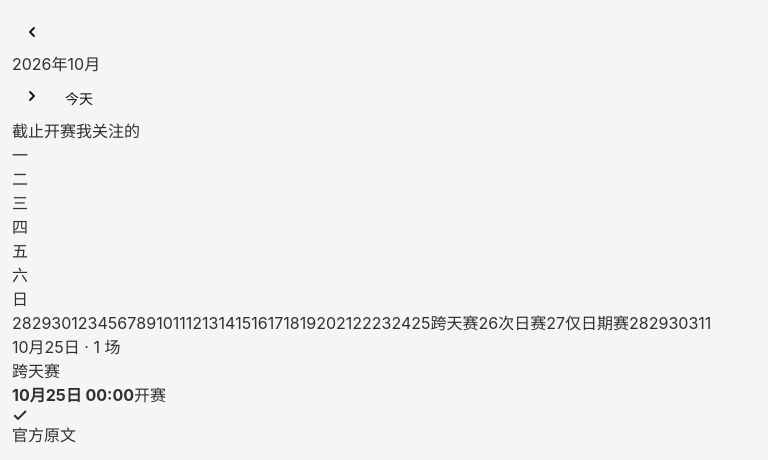
按北京时间显示整月节点，点选日期只展示当天比赛
Expected: the button with aria-label "10月25日，1 场" is shown, [411,310,479,334]
Expected: the link "跨天赛" is shown, [12,360,60,380]
Step 1. Click the button with aria-label "10月26日，1 场" → x=512, y=322, box [478,310,546,334]
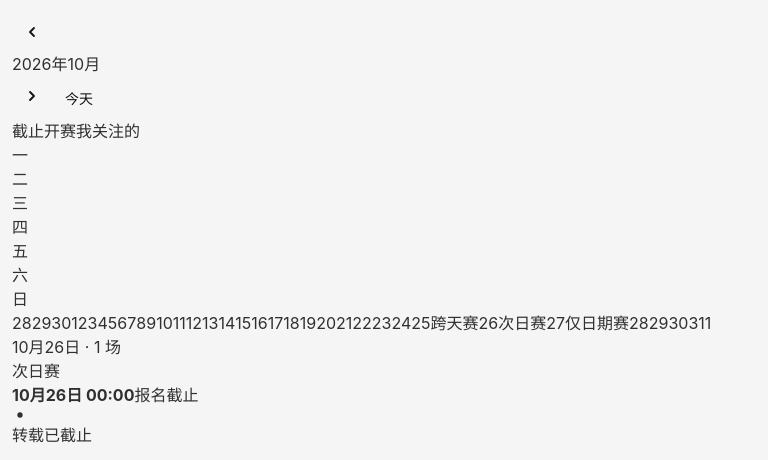
Expected: the link "次日赛" is shown, [12,360,60,380]
Step 2. Click the button named "下个月" → x=32, y=96, box [12,76,52,116]
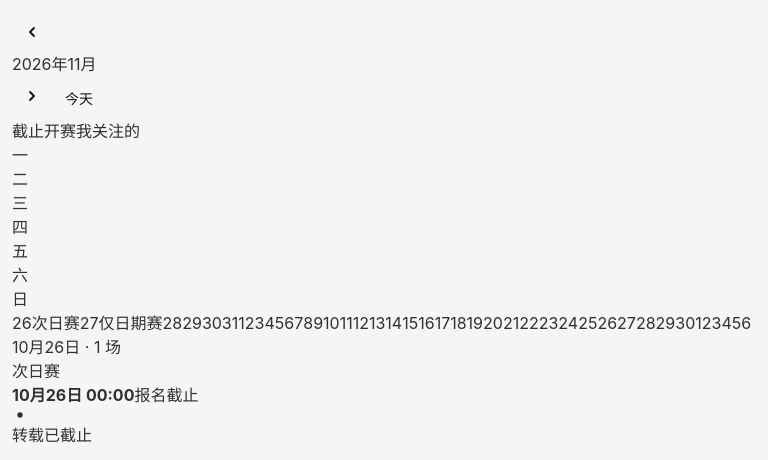
Expected: the heading "2026年11月" is shown, [12,54,97,74]
